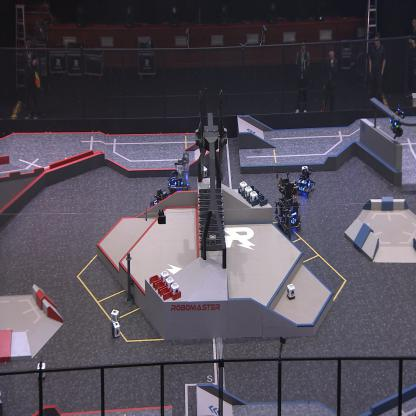car: (275, 178, 301, 233), (168, 152, 191, 194), (294, 164, 315, 196), (149, 188, 168, 214)
